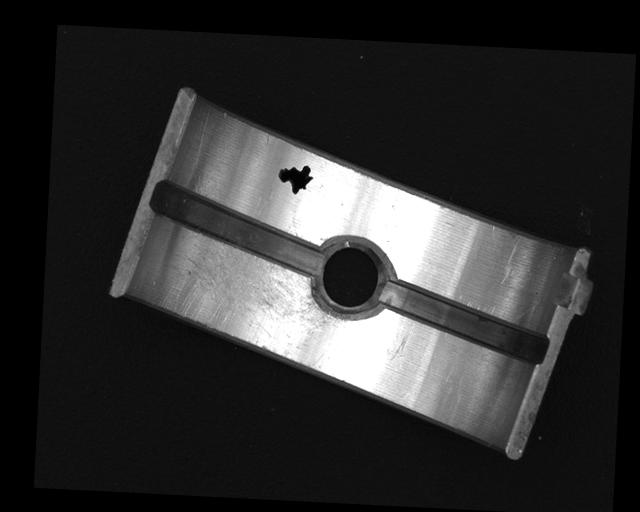blot: (276, 162, 315, 197)
gap: (152, 181, 324, 275), (376, 280, 549, 366)
hole: (310, 231, 392, 321)
nick: (500, 236, 522, 284)
scratch: (159, 233, 348, 378)
